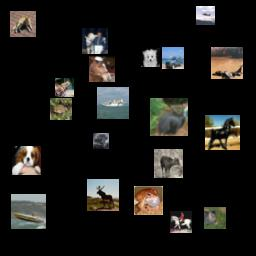airplane: (211, 47, 243, 79), (196, 6, 215, 25)
automobile: (162, 47, 184, 69), (93, 133, 109, 149)
bird: (150, 98, 188, 136)
cat: (10, 11, 36, 37), (204, 207, 226, 229)
deer: (87, 179, 119, 211), (154, 149, 183, 178)
dog: (12, 146, 41, 175), (141, 48, 160, 67)
frog: (134, 186, 163, 215), (50, 98, 72, 120), (55, 78, 74, 97)
ship: (11, 194, 46, 229), (97, 87, 129, 119)
